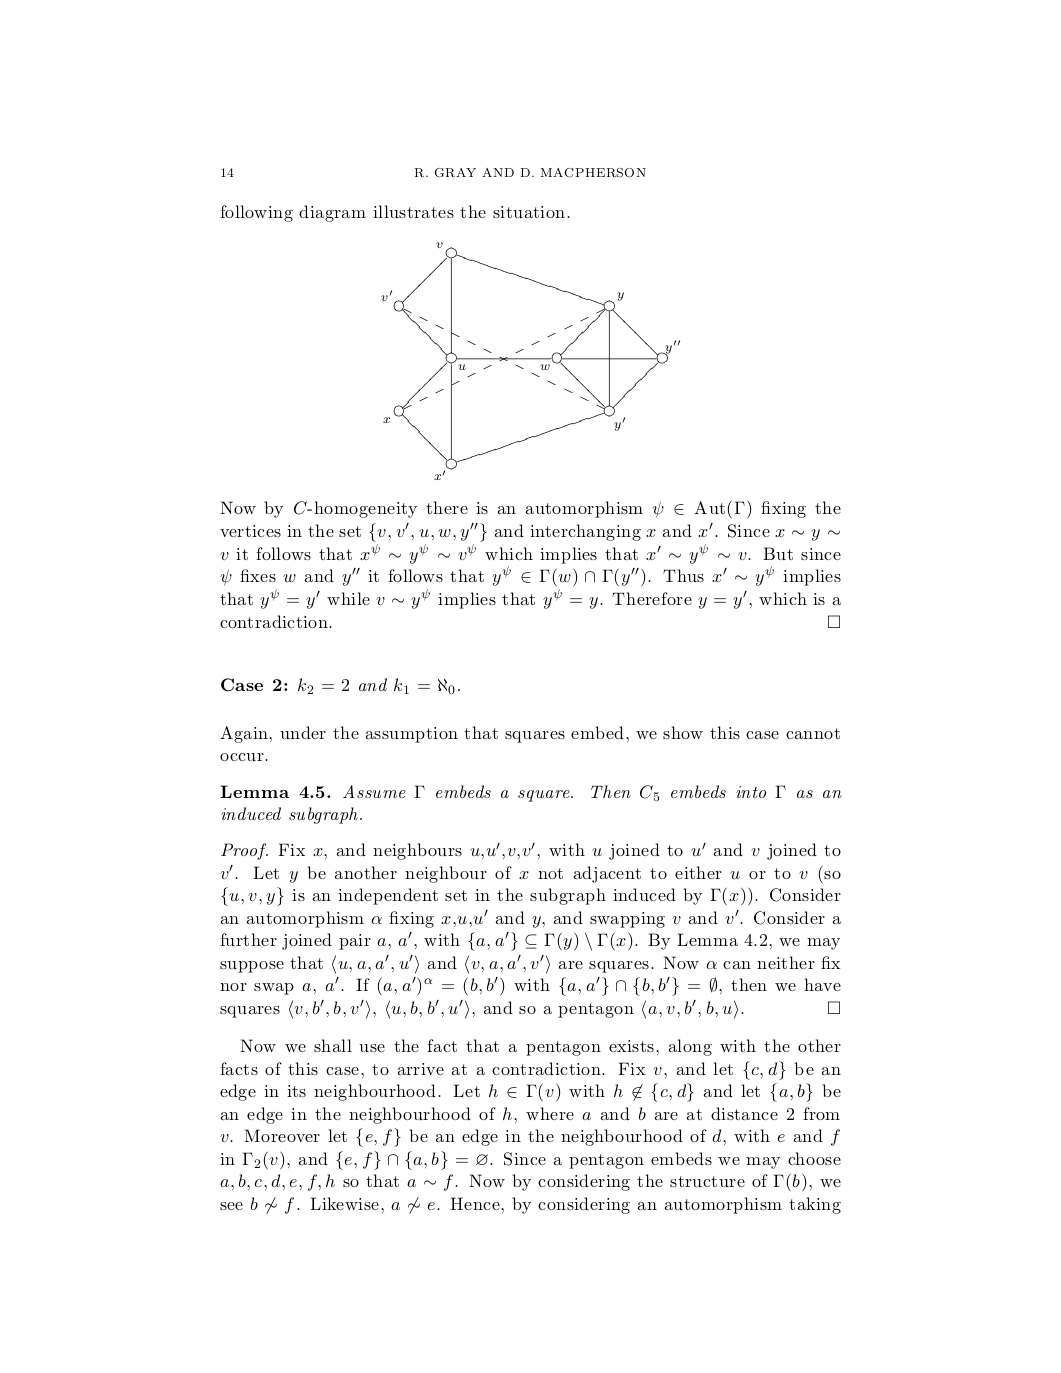figure: (381, 241, 680, 480)
